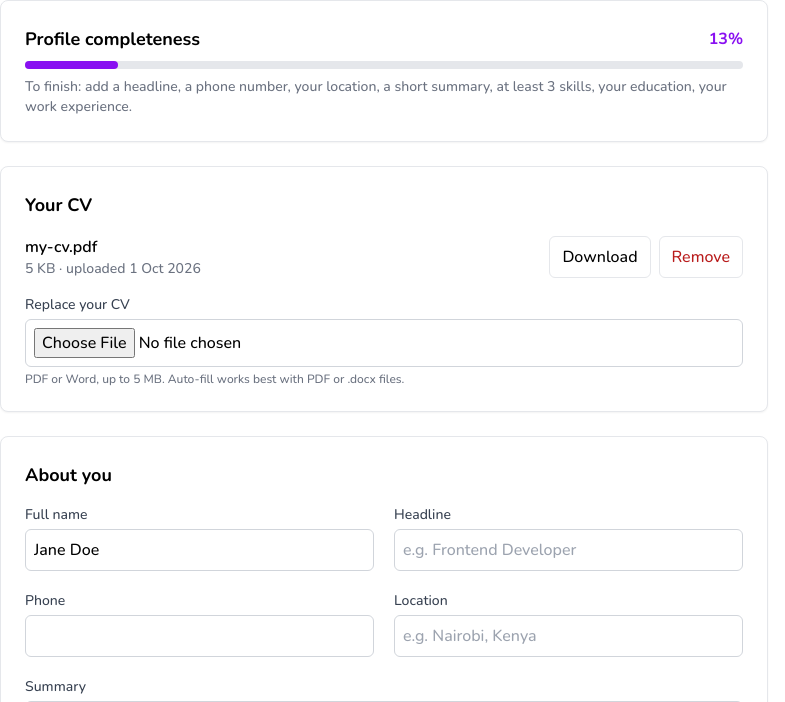
Test: job seeker profile page › a saved CV can be downloaded and removed
Expected: the text "my-cv.pdf" is shown, x1=25 y1=236 x2=97 y2=258
Click the button "Download".
click(600, 257)  # box x1=549 y1=236 x2=650 y2=278
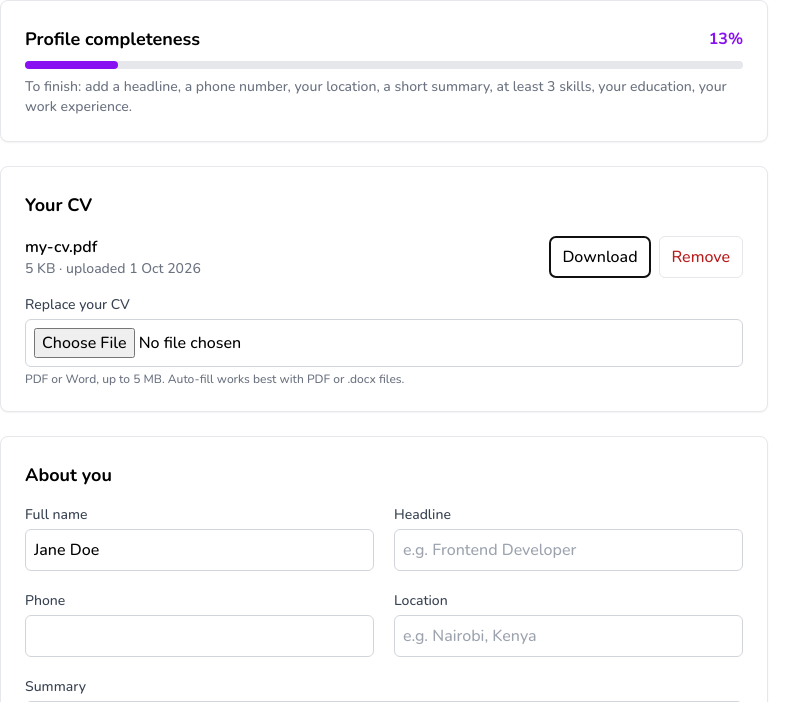
Click the button "Remove".
click(701, 257)  # box x1=658 y1=236 x2=743 y2=278
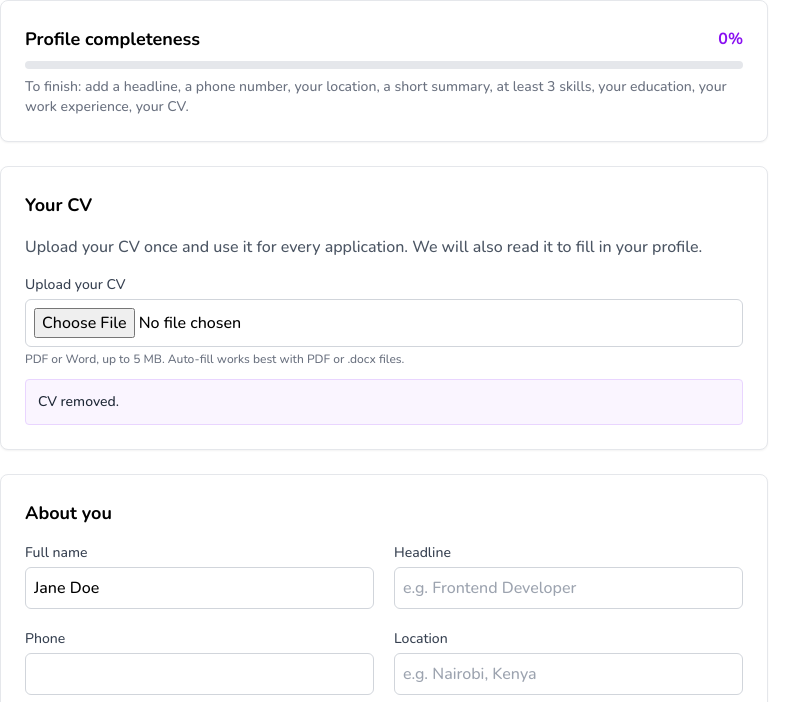
Expected: the file field labelled "Upload your CV" is shown, x1=25 y1=299 x2=743 y2=347
Expected: the text "my-cv.pdf" is gone
